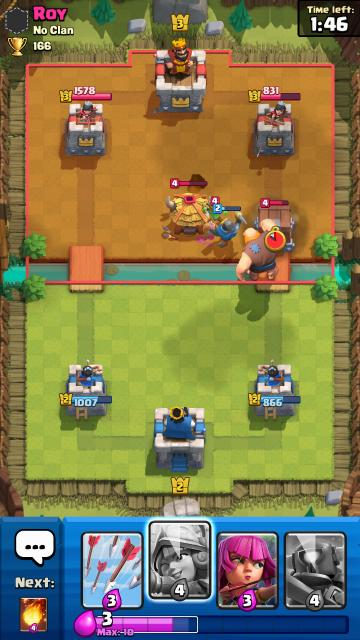ally_melee: (206, 210, 247, 248)
ally_tank: (236, 218, 286, 282)
enemy_building: (162, 193, 212, 240), (254, 204, 295, 251)
enemy_ranged: (203, 202, 227, 223)
